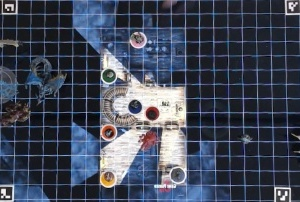blue: (127, 98, 144, 115)
green: (100, 66, 118, 84)
orange: (98, 122, 120, 142)
pink: (131, 30, 149, 47)
red: (144, 103, 162, 123)
violet: (170, 164, 189, 183)
yellow: (97, 168, 118, 188)
